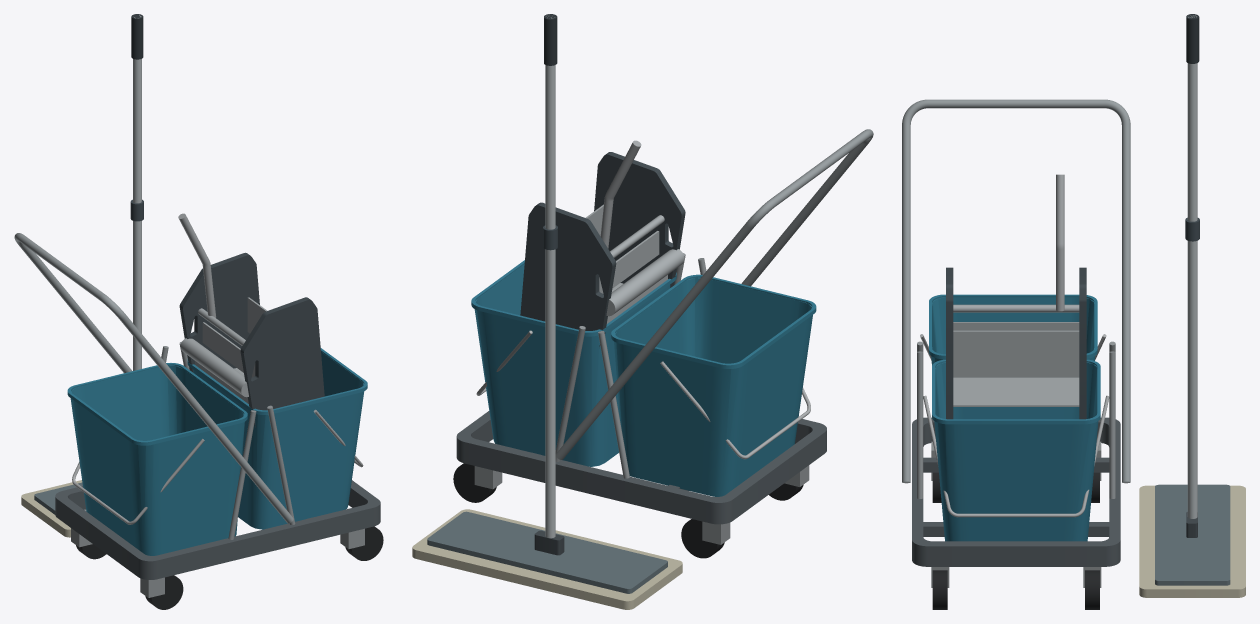
The model's file is mop-trolley.glb.
3 renders of one model, left to right at view 1: azimuth 30°, elevation 25°; view 2: azimuth 150°, elevation 25°; view 3: azimuth 270°, elevation 25°, orthographic. The views are drawn at different scales.
Visible parts, largest first — view 1: mop_trolley; view 2: mop_trolley; view 3: mop_trolley.
Boxes of the visible parts, x1,y1,x2,y2 form: mop_trolley: [14, 14, 383, 609]; mop_trolley: [412, 14, 873, 609]; mop_trolley: [902, 14, 1245, 609].
Bounding box in the file's own units: 0.7005 × 1.13 × 0.665.
